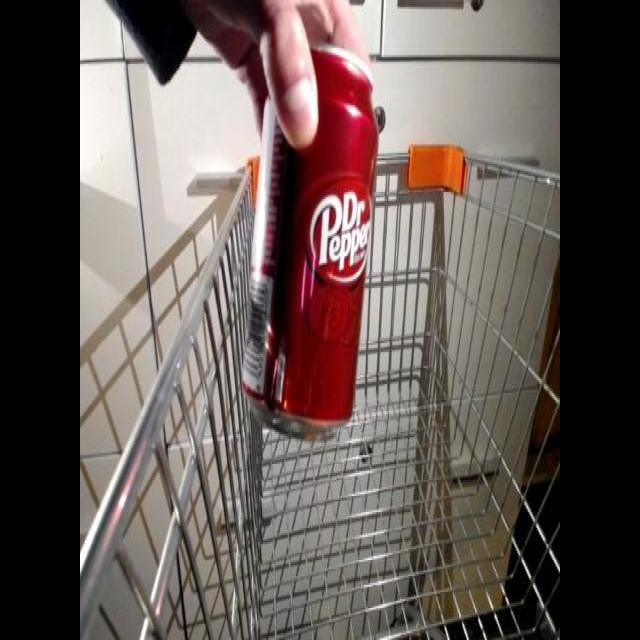Dr Pepper: (234, 33, 389, 442)
